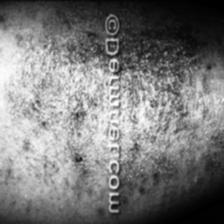Non-Cancerous Skin Condition: (0, 0, 82, 191), (119, 19, 199, 200)
